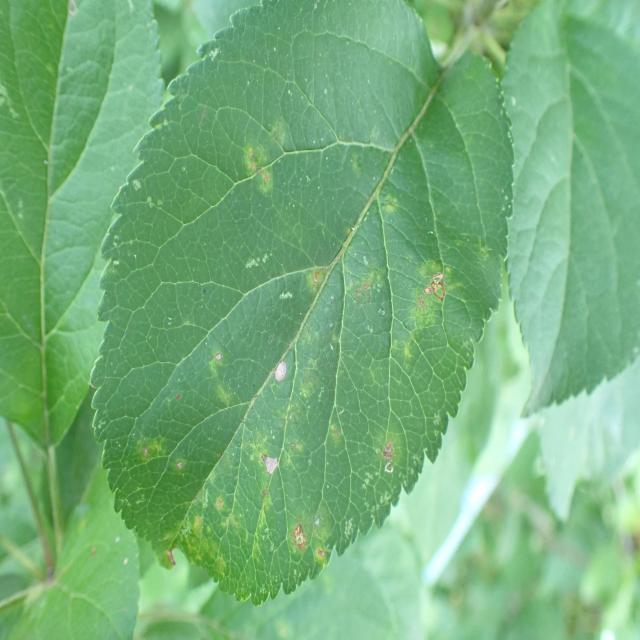frog-eye-leaf-spot: (89, 0, 516, 608)
